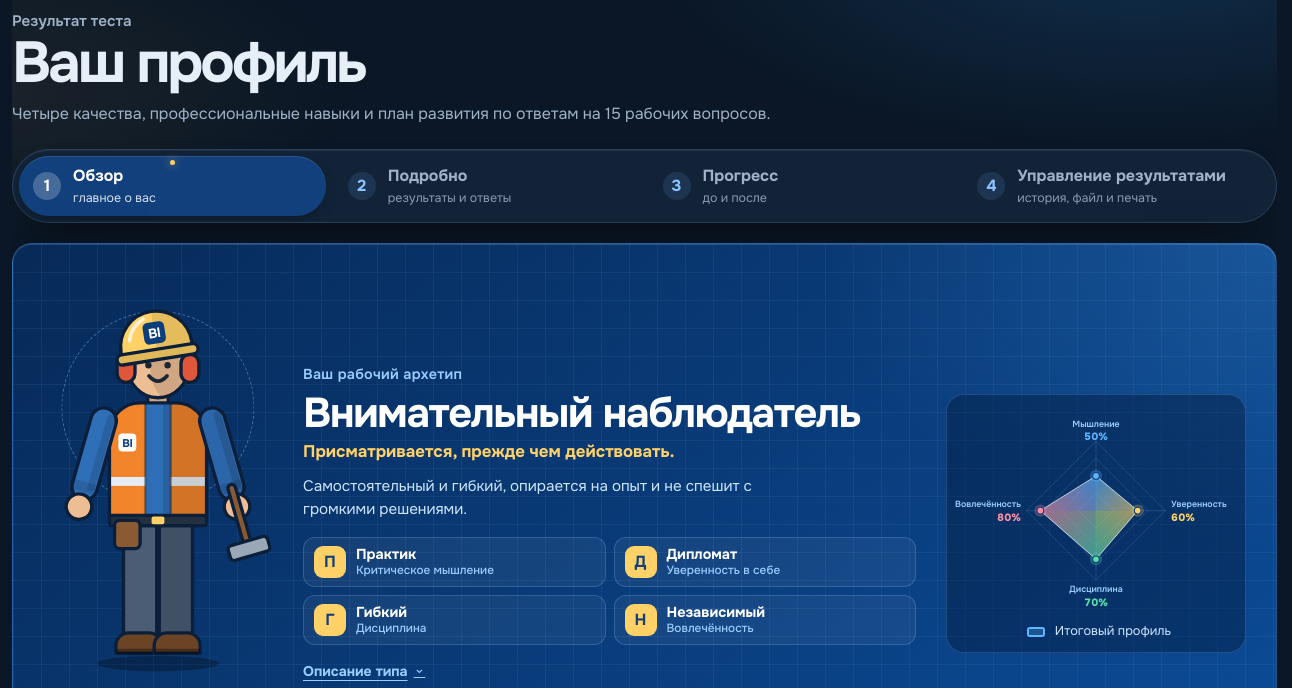
Test: профиль сотрудника: обзор и подробности › подробно: внизу тот же «Ориентир BI Academy», что видит руководитель, без вымышленных статусов
Expected: the element "Ориентир BI Academy" is not shown
Click the tab "2 Подробно результаты и ответы" at (428, 176), box [334,156,641,216]
(page scrolled)
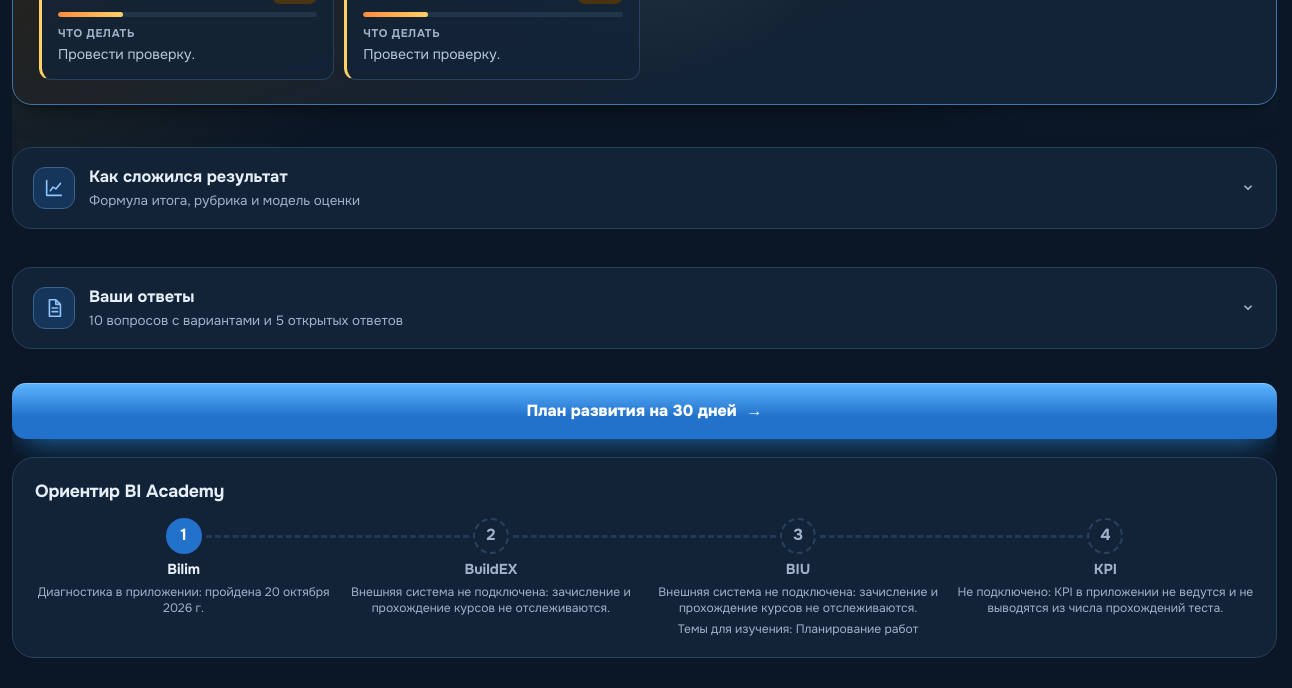
Expected: the text "Диагностика в приложении: пройдена 20 октября 2026 г." is shown, [35,584,332,617]
Expected: the text "Внешняя система не подключена" is shown 2 times, [342,584,640,617]; [650,584,947,617]
Expected: the text "KPI в приложении не ведутся" is shown, [957,584,1253,616]
